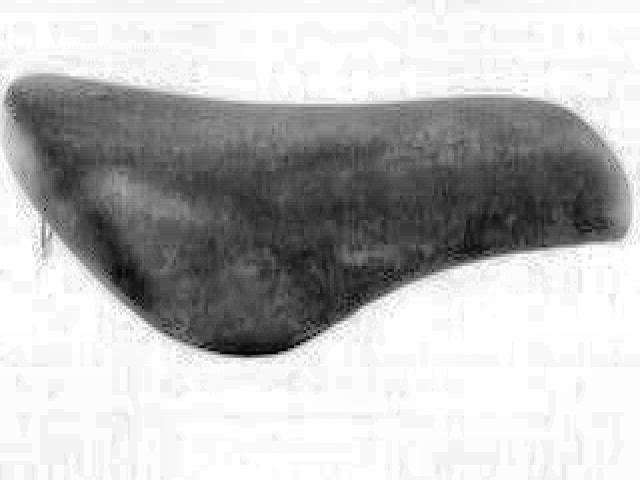saddle: (4, 66, 634, 371)
